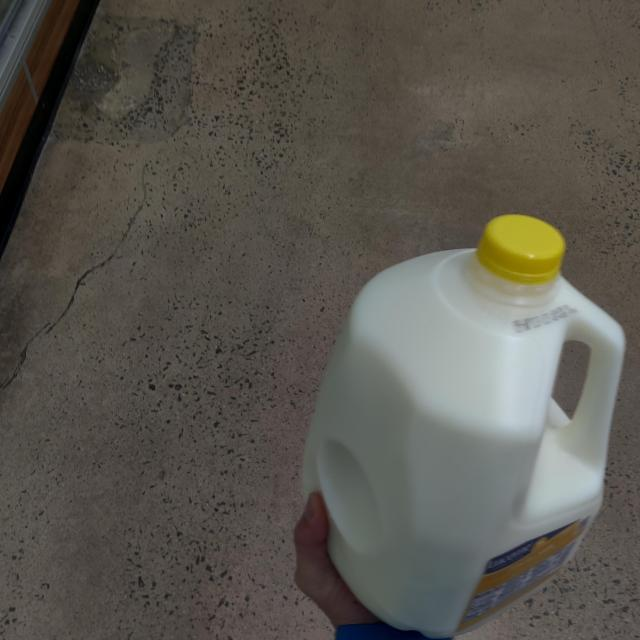milk: (299, 218, 630, 636)
